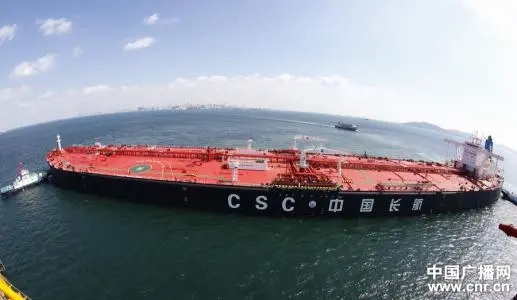Cargoship: (45, 126, 508, 217)
otherboat: (1, 161, 45, 198), (336, 120, 359, 130)
